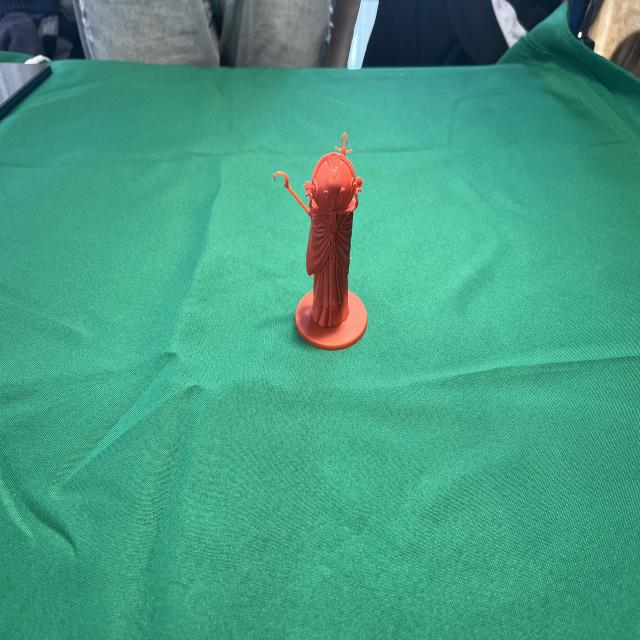amon: (265, 127, 372, 357)
